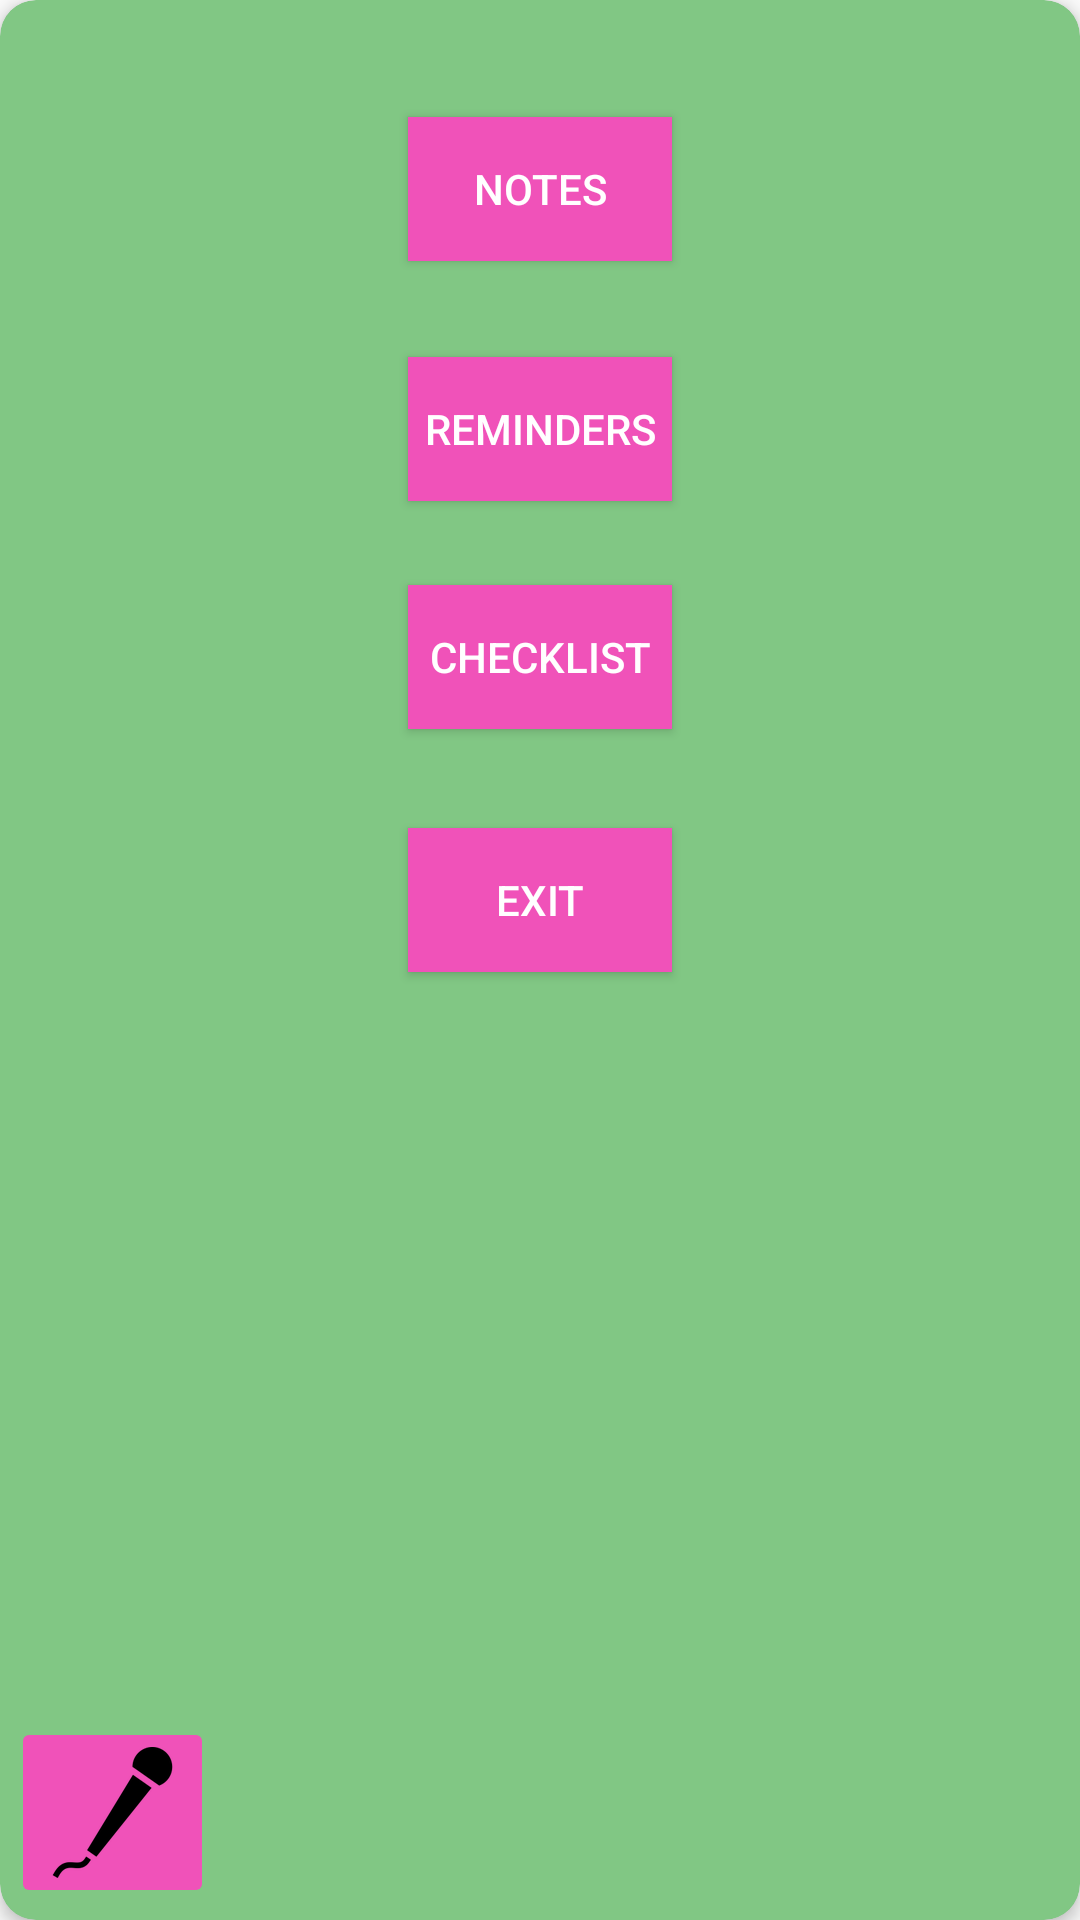

Icons on this 1080x1920 Android screen, each with the point to tap as (x=x, y=y):
mic: (x=112, y=1812)
